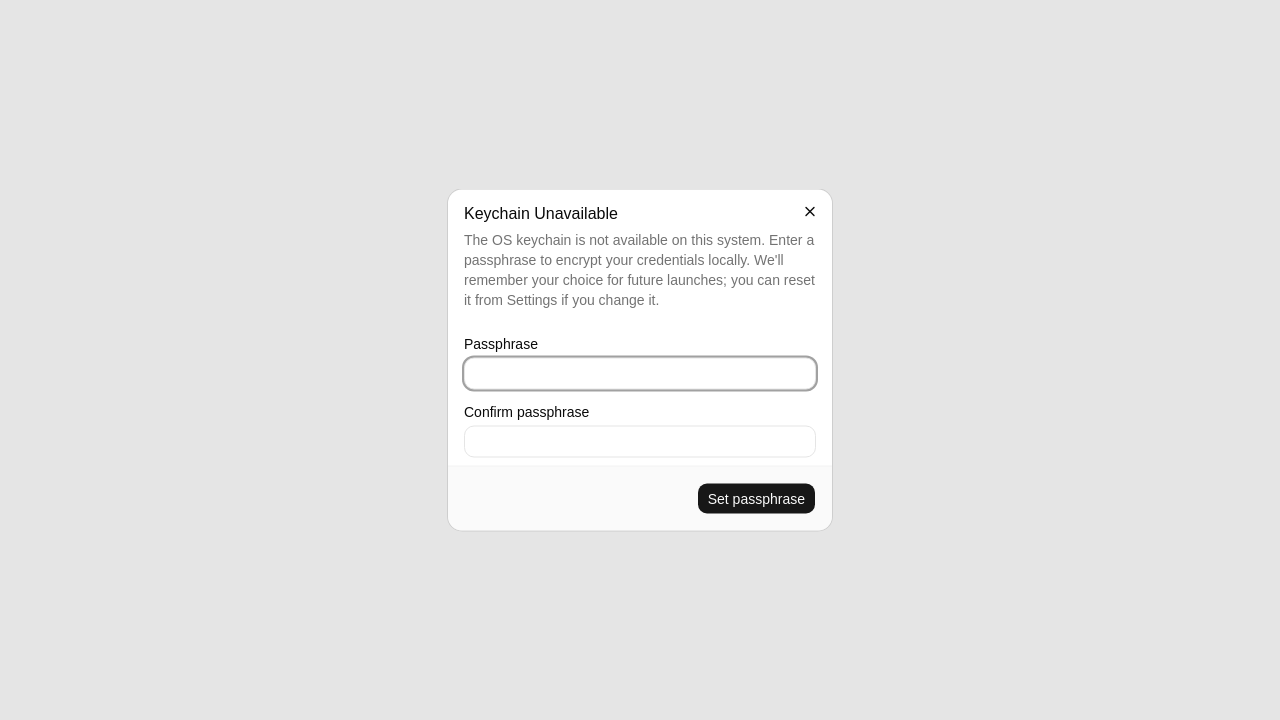
it: KeychainFallbackPrompt › shows backend error message when unlock fails
Expected: the dialog is shown, [448, 190, 832, 530]
Type "wrongpass" into the password field labelled "Passphrase".
click(640, 374); type("wrongpass")  # box [464, 358, 816, 390]
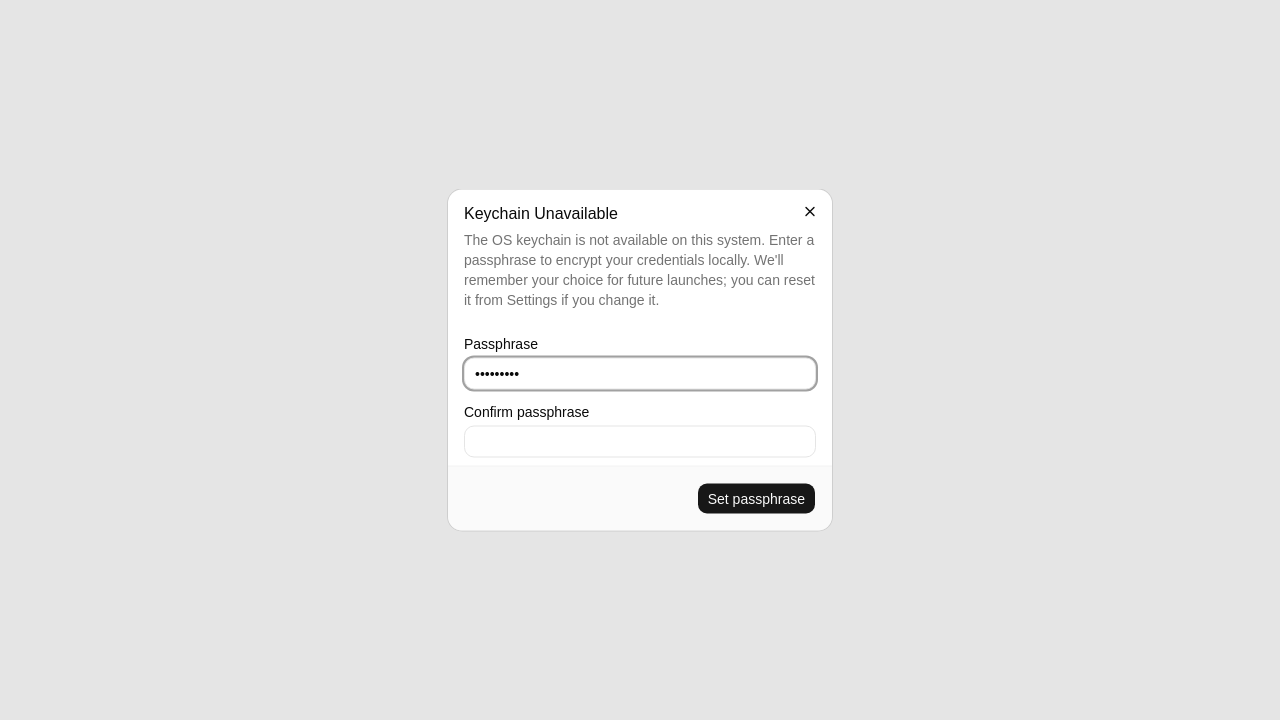
Type "wrongpass" into the password field labelled "Confirm passphrase".
click(640, 442); type("wrongpass")  # box [464, 426, 816, 458]
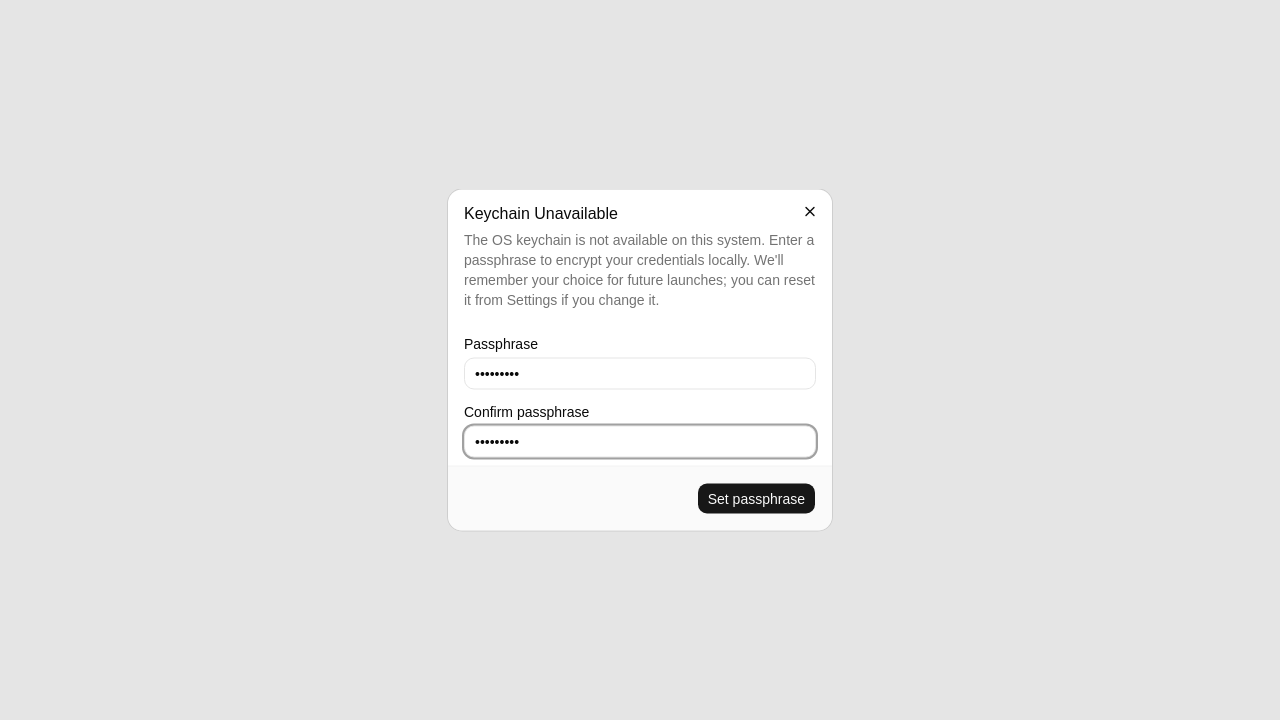
Click the button "Set passphrase".
click(756, 498)  # box [697, 482, 816, 514]
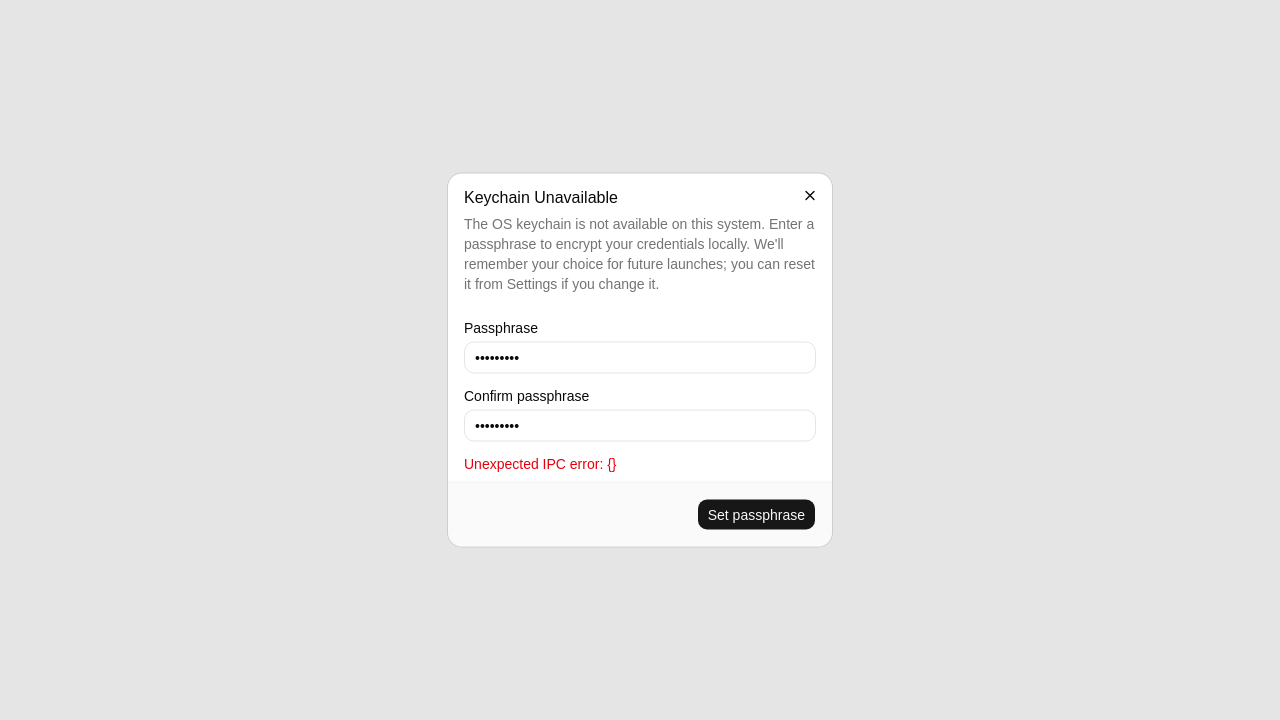
Expected: the dialog is shown, [448, 174, 832, 546]
Now the message "Unexpected IPC error: {}" is shown, box [464, 456, 616, 472]
